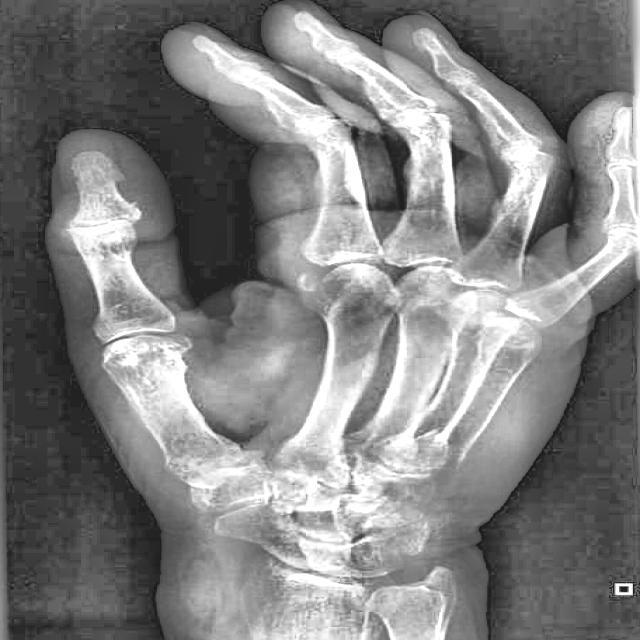fracture: (427, 427, 470, 472)
